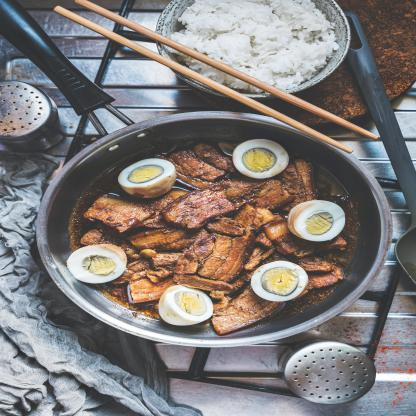Carne: (182, 228, 244, 283), (82, 194, 159, 230), (223, 204, 292, 244), (164, 147, 236, 184), (206, 225, 280, 257), (166, 190, 233, 224), (218, 177, 297, 205), (194, 258, 245, 292), (220, 294, 262, 330), (132, 224, 181, 251), (303, 253, 343, 279)
